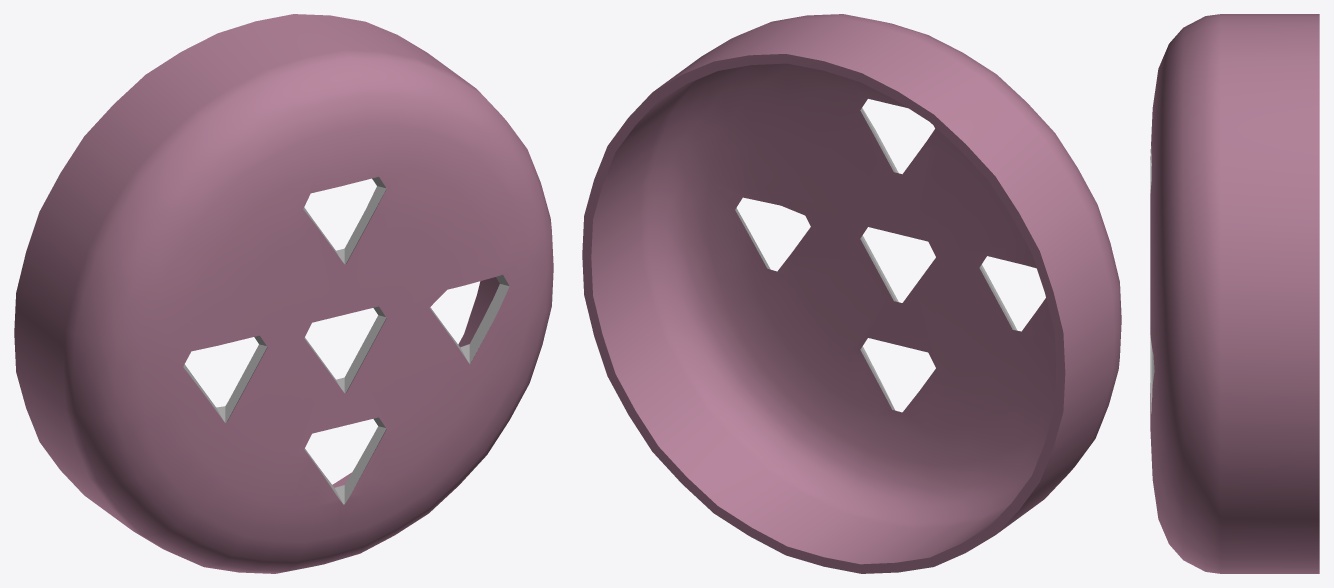
File: ele_dia.fbx
3 views of the same model, side by side, from view 1: azimuth 30°, elevation 25°; view 2: azimuth 150°, elevation 25°; view 3: azimuth 270°, elevation 25° (orthographic).
Parts seen in each view (by area): view 1: polySurface50; view 2: polySurface50; view 3: polySurface50.
Boxes of the visible parts, x1,y1,x2,y2 form: polySurface50: [14, 14, 553, 573]; polySurface50: [582, 14, 1121, 573]; polySurface50: [1150, 14, 1319, 573].
Size of the model in its own units: 60.28 by 60.28 by 18.31.
